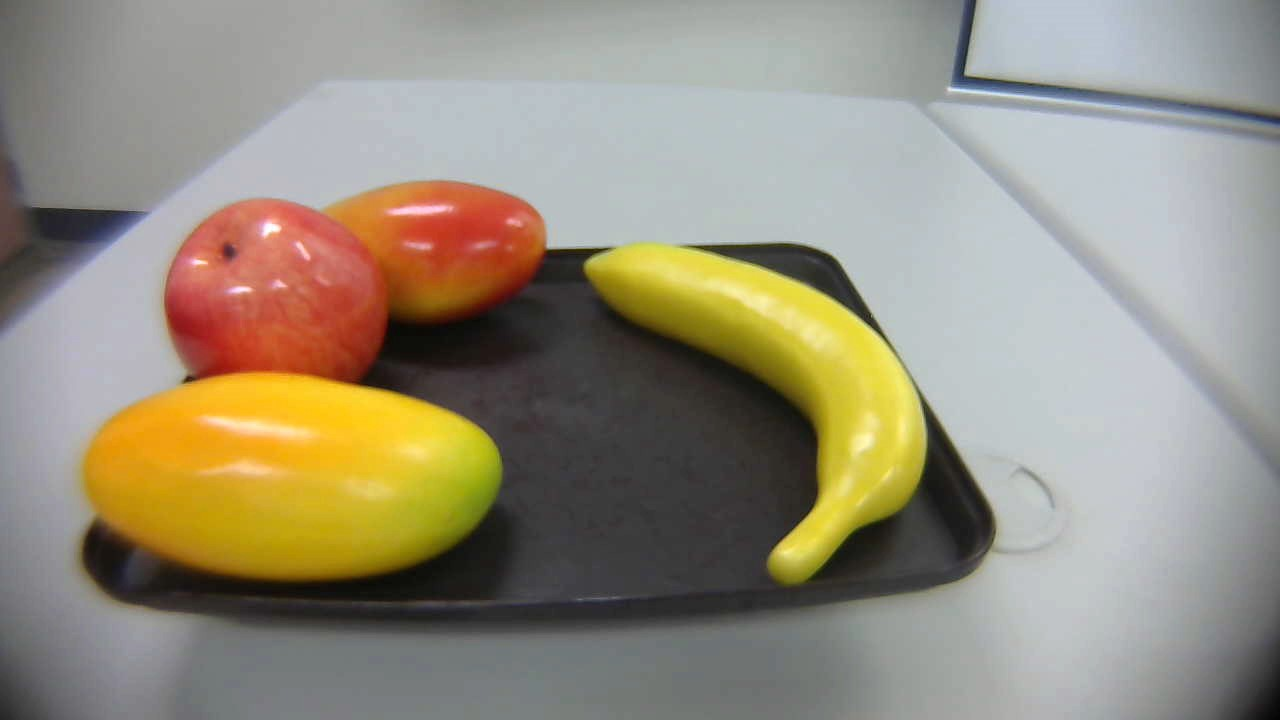banana: (577, 219, 938, 581)
red apple: (155, 189, 400, 411)
red mango: (303, 166, 567, 334)
yellow mango: (70, 366, 518, 581)
